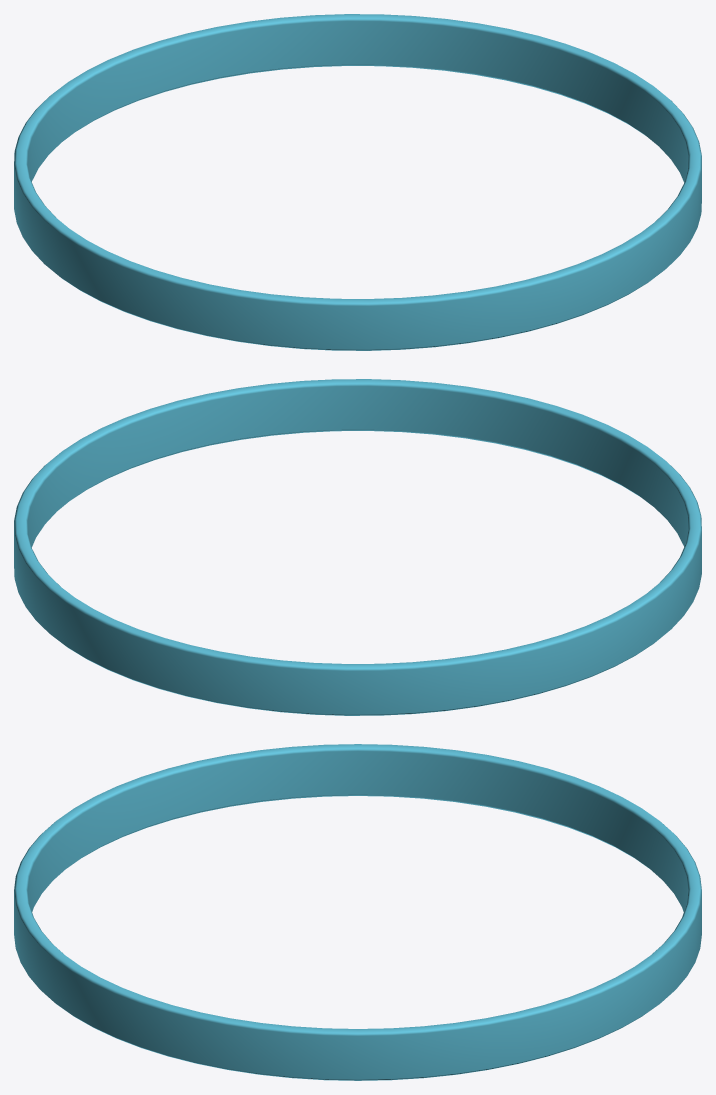
The picture shows the model from 3 angles, top to bottom: view 1: azimuth 30°, elevation 25°; view 2: azimuth 150°, elevation 25°; view 3: azimuth 270°, elevation 25°; orthographic projection.
Visible parts, largest first — view 1: seal_body; view 2: seal_body; view 3: seal_body.
Part boxes in pixels (x1,y1,x2,y2): seal_body: (14,14,701,350); seal_body: (14,379,701,715); seal_body: (14,744,701,1080).
Size of the model in its own units: 0.125 by 0.0097 by 0.125.
